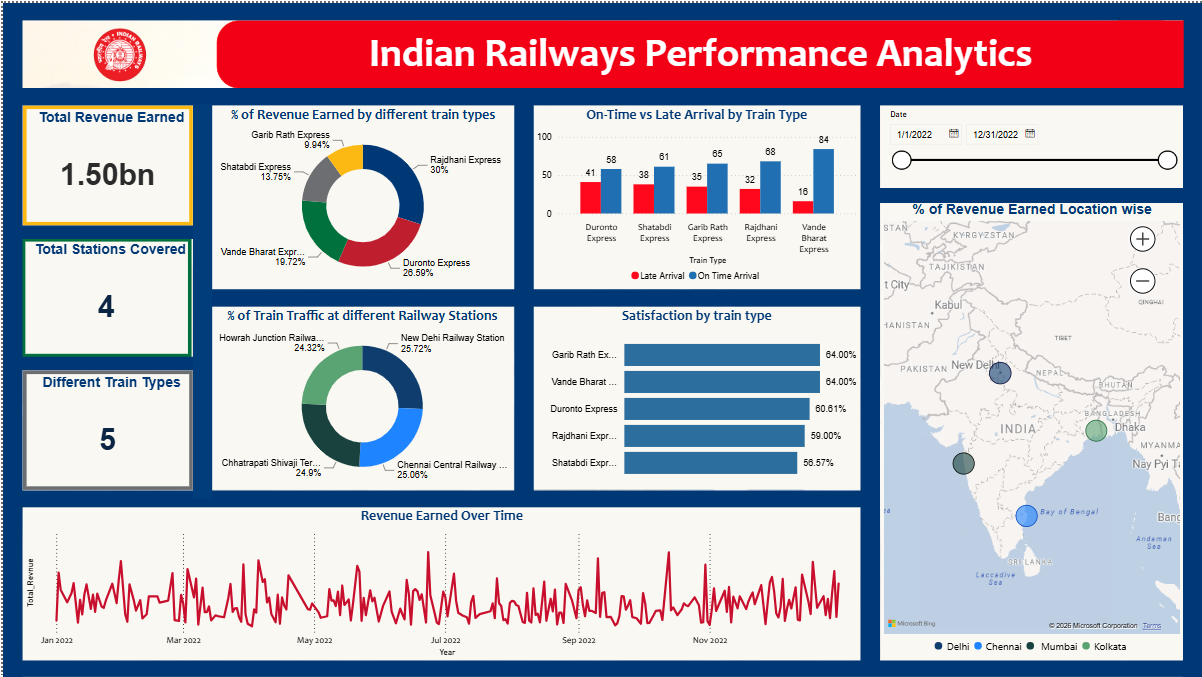

Layout of this report page (visuals, bound fields, positions):
{"tool":"powerbi","page":{"name":"Railways Performance Analytics","canvas":[1600,900],"ordinal":0},"visuals":[{"type":"textbox","title":"Indian Railways Performance Analytics","box":[285.2,23.3,1288.6,90.5],"z":0},{"type":"lineChart","title":"Revenue Earned Over Time","fields":{"Y":["Measure Table.Total_Revnue"],"Category":["Date Lookup.Date.Variation.Date Hierarchy.Year","Date Lookup.Date.Variation.Date Hierarchy.Quarter","Date Lookup.Date.Variation.Date Hierarchy.Month","Date Lookup.Date.Variation.Date Hierarchy.Day"]},"box":[26.7,671.7,1116.7,205],"z":1000},{"type":"card","title":"Total Revenue Earned ","fields":{"Values":["Measure Table.Total_Revnue"]},"box":[26.2,136.2,226.2,160],"z":2000},{"type":"card","title":"Total Stations Covered ","fields":{"Values":["Count(station_lookup.Station Name)"]},"box":[25.6,313.3,226.7,158.9],"z":3000},{"type":"card","title":"Different Train Types","fields":{"Values":["Count(Train lookup.Train Type)"]},"box":[26.7,490,226.7,158.9],"z":4000},{"type":"donutChart","title":" % of Revenue Earned by different train types ","fields":{"Category":["Train lookup.Train Type"],"Y":["Measure Table.Total_Revnue"]},"box":[278.3,136.7,403.3,245],"z":5000},{"type":"donutChart","title":"% of Train Traffic at different Railway Stations","fields":{"Category":["station_lookup.Station Name"],"Y":["Measure Table.Total_Revnue"]},"box":[278.3,405,401.7,243.3],"z":6000},{"type":"clusteredBarChart","title":"Satisfaction by train type","fields":{"Category":["Train lookup.Train Type"],"Y":["Measure Table.Satisfaction by Train Type"]},"box":[706.7,405,436.7,243.3],"z":7000},{"type":"map","title":"% of Revenue Earned Location wise","fields":{"Size":["Measure Table.% wise Revenue Earned"],"Series":["station_lookup.Station Location"],"Category":["station_lookup.Station Location"]},"box":[1170,265.7,404.3,611.4],"z":8000},{"type":"slicer","title":"On-Time vs Late Arrival by Train Type","fields":{"Values":["Date Lookup.Date"]},"box":[1170,136,404,110],"z":9000},{"type":"clusteredColumnChart","title":"On-Time vs Late Arrival by Train Type","fields":{"Category":["Train lookup.Train Type"],"Y":["Measure Table.Late Arrival","Measure Table.On Time Arrival"]},"box":[706.7,136.7,436.7,245],"z":10000},{"type":"shape","box":[1573.6,0,26.4,900],"z":11000},{"type":"shape","box":[0,0,26,900],"z":12000},{"type":"shape","box":[0,0,1600,23.3],"z":13000},{"type":"shape","box":[0,876.7,1600,23.3],"z":14000},{"type":"image","box":[26.7,29.2,258.3,78.3],"z":15000},{"type":"shape","box":[0,113.3,1600,23.3],"z":16000},{"type":"shape","box":[1486.2,23.3,87.6,90],"z":17000},{"type":"shape","box":[0,649.2,1158.3,22.5],"z":18000},{"type":"shape","box":[14,472,252,18],"z":19000},{"type":"shape","box":[0,296,266,18],"z":20000},{"type":"shape","box":[265,381.7,893.3,23.3],"z":21000},{"type":"shape","box":[1160,246,438,20],"z":22000},{"type":"shape","box":[252.9,134.3,25.7,525.7],"z":23000},{"type":"shape","box":[1144,126,26,762],"z":24000},{"type":"shape","box":[682,134,26,526],"z":25000}]}

Visuals, with their boxes in screenshot pixels (x1, y1, x2, y2), scaled from the page's 1600x900 canvas onto the 1202x677 screenshot:
"Indian Railways Performance Analytics" textbox: bbox(214, 18, 1182, 86)
"Revenue Earned Over Time" lineChart: bbox(20, 505, 859, 659)
"Total Revenue Earned " card: bbox(20, 102, 190, 223)
"Total Stations Covered " card: bbox(19, 236, 190, 355)
"Different Train Types" card: bbox(20, 369, 190, 488)
" % of Revenue Earned by different train types " donutChart: bbox(209, 103, 512, 287)
"% of Train Traffic at different Railway Stations" donutChart: bbox(209, 305, 511, 488)
"Satisfaction by train type" clusteredBarChart: bbox(531, 305, 859, 488)
"% of Revenue Earned Location wise" map: bbox(879, 200, 1183, 660)
"On-Time vs Late Arrival by Train Type" slicer: bbox(879, 102, 1182, 185)
"On-Time vs Late Arrival by Train Type" clusteredColumnChart: bbox(531, 103, 859, 287)
shape: bbox(1182, 0, 1201, 676)
shape: bbox(0, 0, 20, 676)
shape: bbox(0, 0, 1201, 18)
shape: bbox(0, 659, 1201, 676)
image: bbox(20, 22, 214, 81)
shape: bbox(0, 85, 1201, 103)
shape: bbox(1117, 18, 1182, 85)
shape: bbox(0, 488, 870, 505)
shape: bbox(11, 355, 200, 369)
shape: bbox(0, 223, 200, 236)
shape: bbox(199, 287, 870, 305)
shape: bbox(871, 185, 1200, 200)
shape: bbox(190, 101, 209, 496)
shape: bbox(859, 95, 879, 668)
shape: bbox(512, 101, 532, 496)
